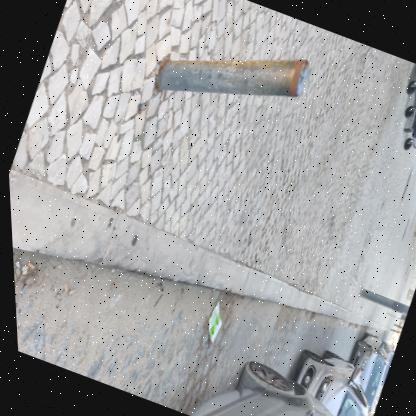Paper: (203, 299, 217, 343)
Waste: (104, 294, 114, 311), (23, 261, 30, 268), (16, 269, 24, 275), (11, 259, 16, 268), (37, 281, 41, 292), (16, 265, 24, 270), (114, 291, 119, 299), (106, 281, 112, 287), (65, 288, 70, 294), (60, 282, 63, 291), (146, 285, 149, 289), (350, 324, 352, 330), (157, 280, 160, 282)
